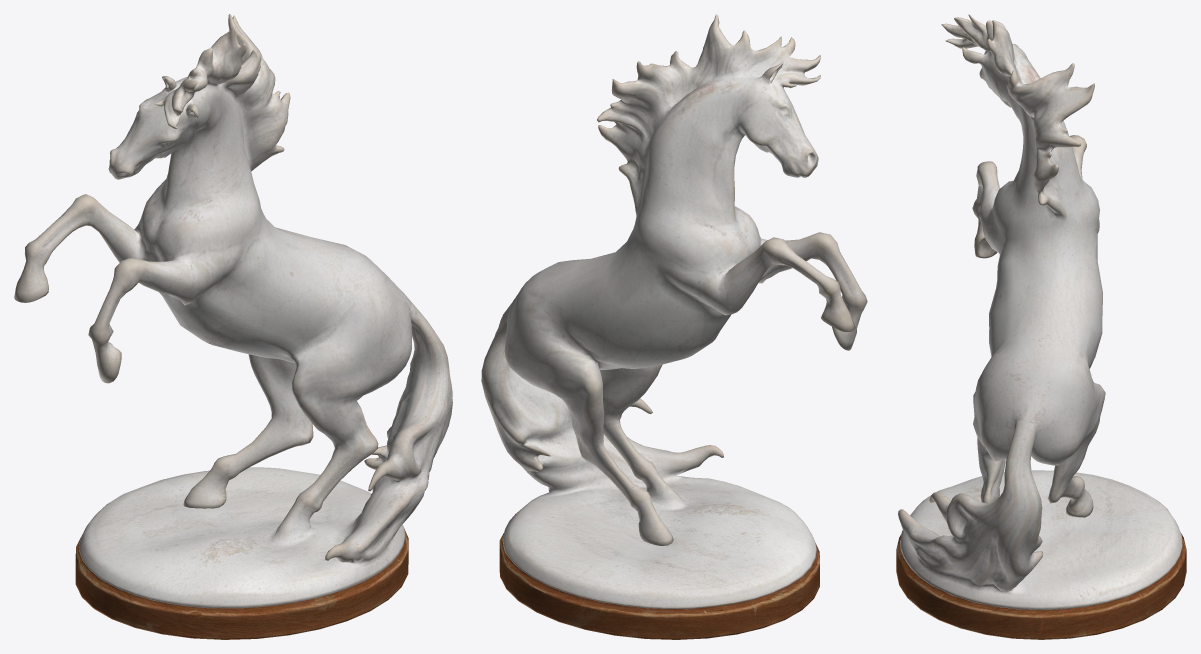
File: horse_statue_01.glb
The picture shows the model from 3 angles, left to right: view 1: azimuth 30°, elevation 25°; view 2: azimuth 150°, elevation 25°; view 3: azimuth 270°, elevation 25°; orthographic projection. The views are drawn at different scales.
Visible parts, largest first — view 1: horse_statue_01_mesh; view 2: horse_statue_01_mesh; view 3: horse_statue_01_mesh.
Boxes of the visible parts, x1=… form: horse_statue_01_mesh: x1=14, y1=14, x2=452, y2=639; horse_statue_01_mesh: x1=481, y1=14, x2=867, y2=639; horse_statue_01_mesh: x1=896, y1=14, x2=1186, y2=639.
Size of the model in its own units: 0.1638 by 0.22 by 0.1078.
1 material, 1 textured.
